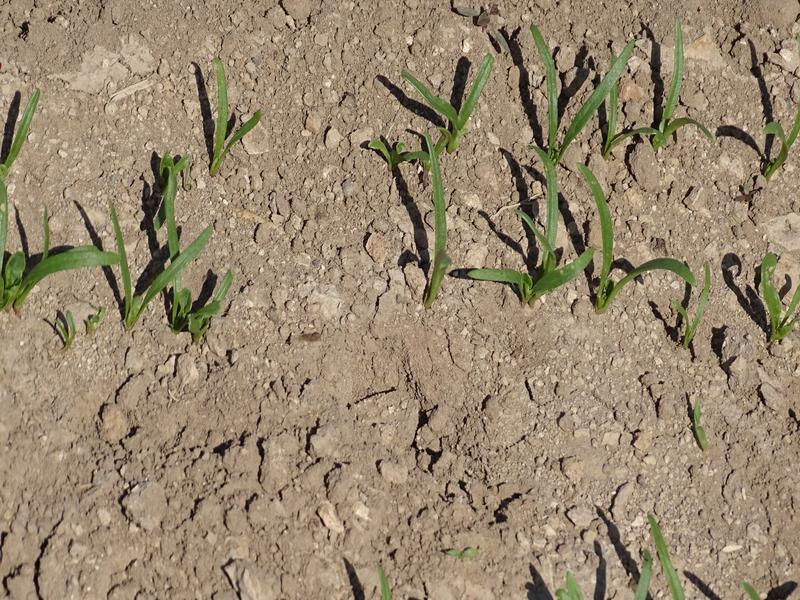Espinaca: (511, 149, 698, 318), (1, 185, 237, 314), (519, 32, 690, 138), (404, 50, 487, 145), (197, 59, 258, 175), (425, 149, 457, 301), (634, 514, 686, 600), (755, 253, 800, 338), (766, 111, 800, 173)
